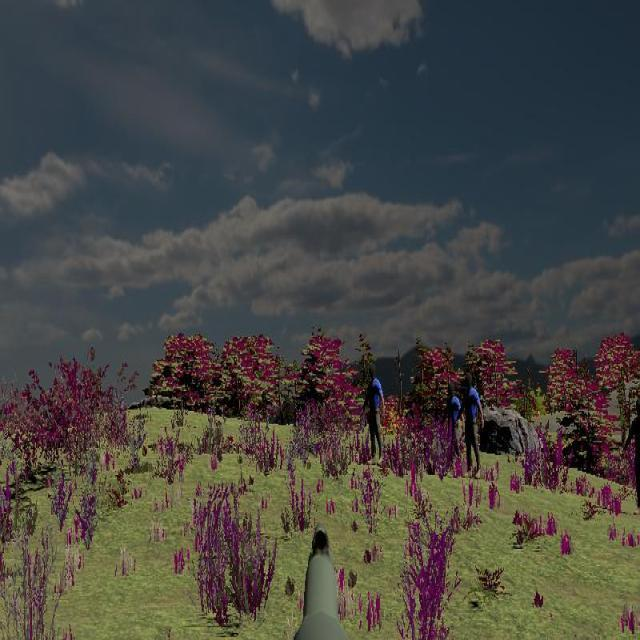Human: (362, 362, 385, 466), (461, 380, 483, 481), (462, 374, 483, 476), (446, 380, 465, 476), (446, 382, 465, 475)
